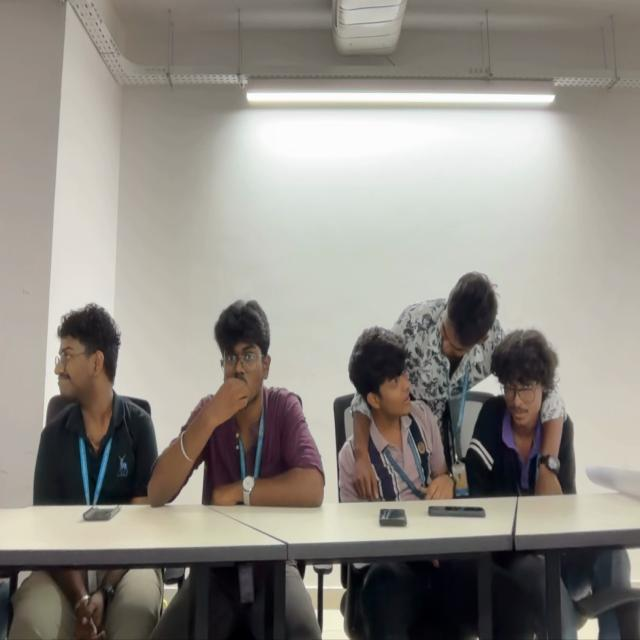Isolated: (156, 296, 326, 507), (34, 305, 150, 495)
socializing: (338, 266, 577, 494)
